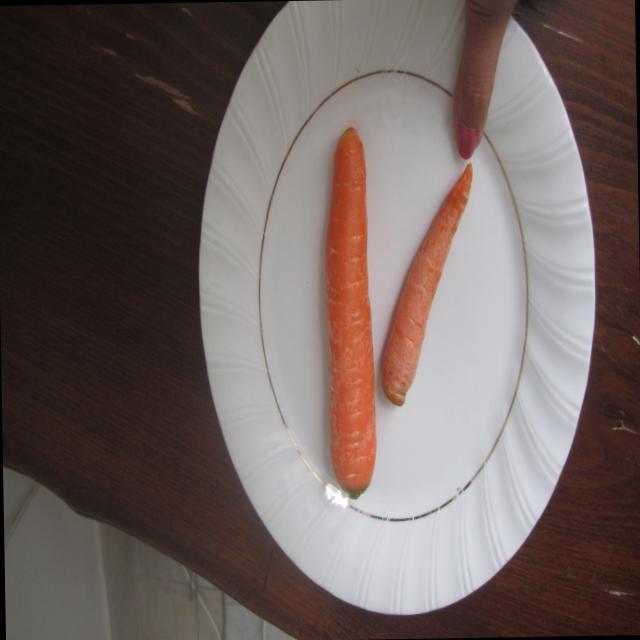Carrot: (376, 150, 484, 417), (317, 123, 384, 506)
Finger: (434, 8, 506, 159)
